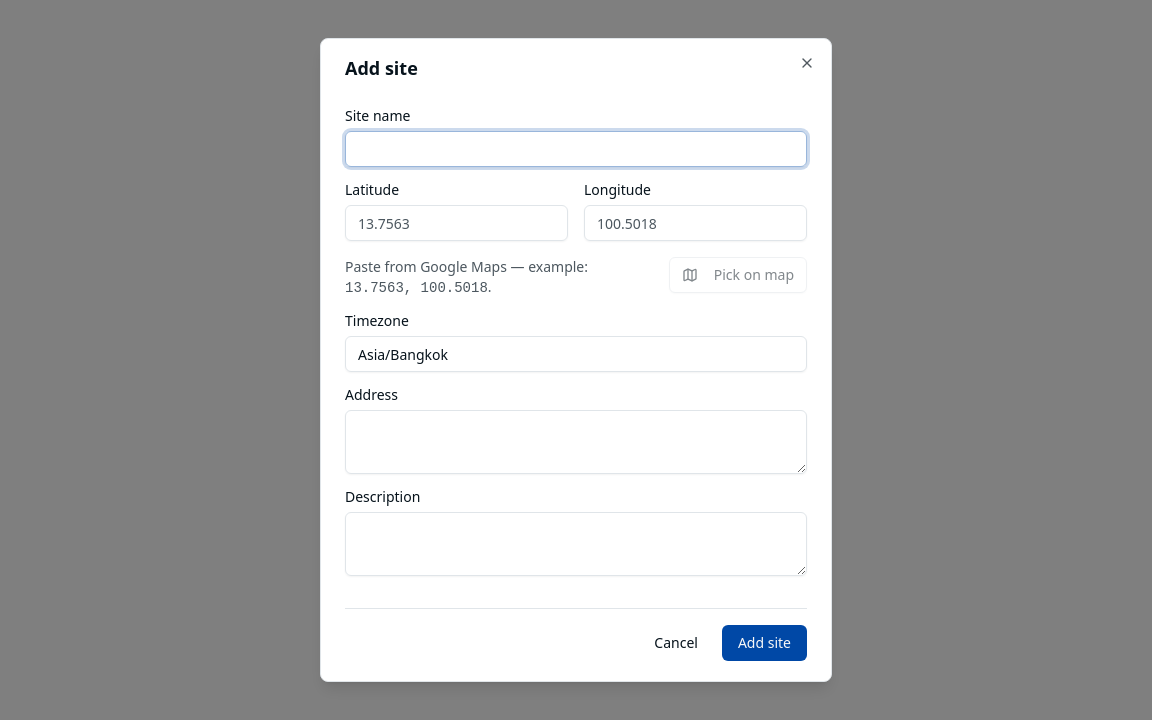
CreateSiteDialog (Plan 02-14 / D-17 + D-18) › validates lat/lng range — shows inline error and disables submit
Type "Bad" into the field labelled "Site name". click: (576,149)
box: [345,131,807,167]
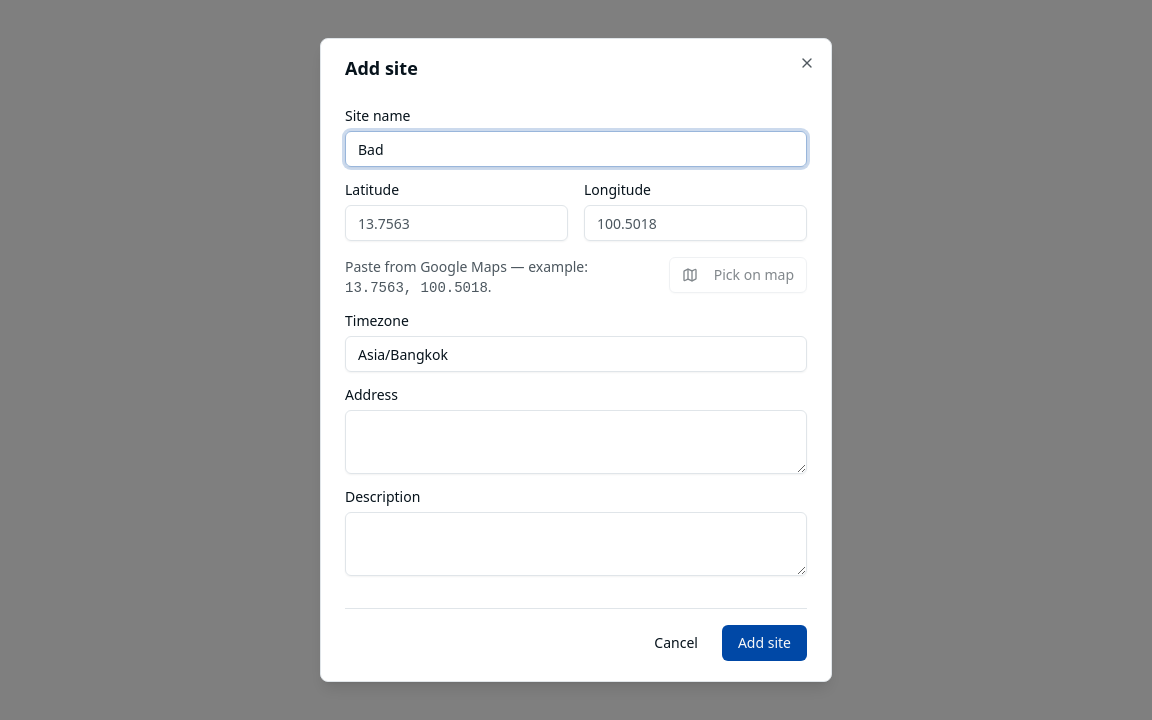
Type "99" into the field labelled "Latitude". click: (456,223)
box: [345,205,568,241]
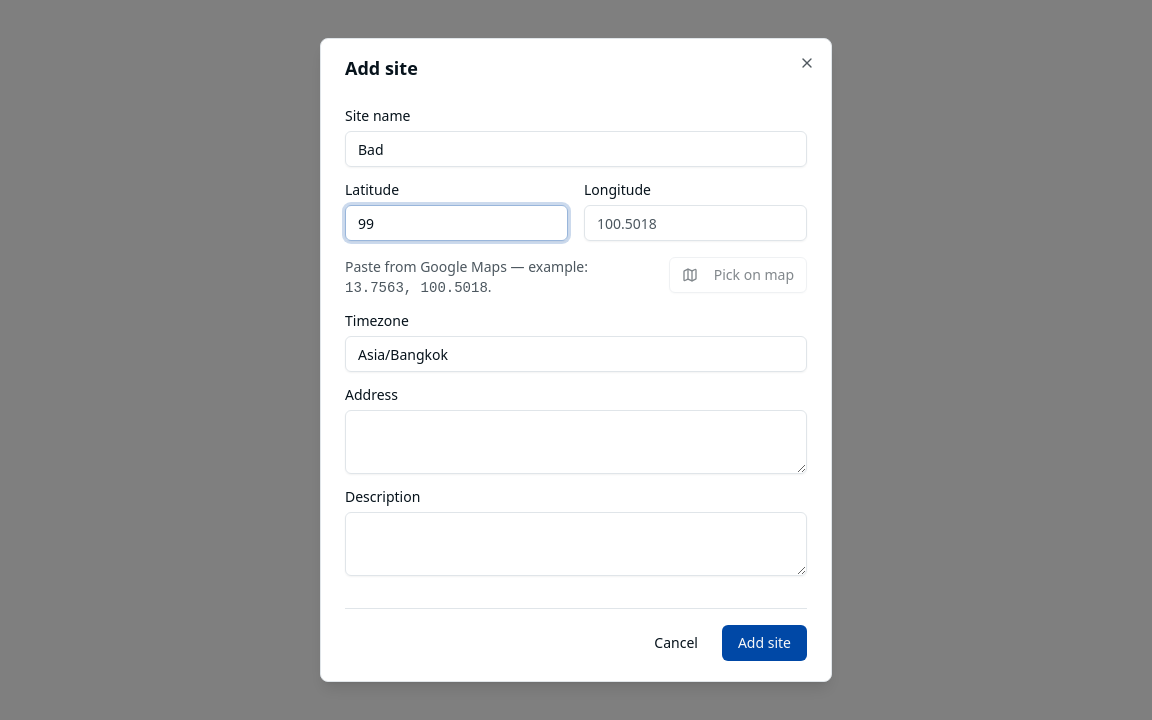
Trigger blur for validation
Press Tab
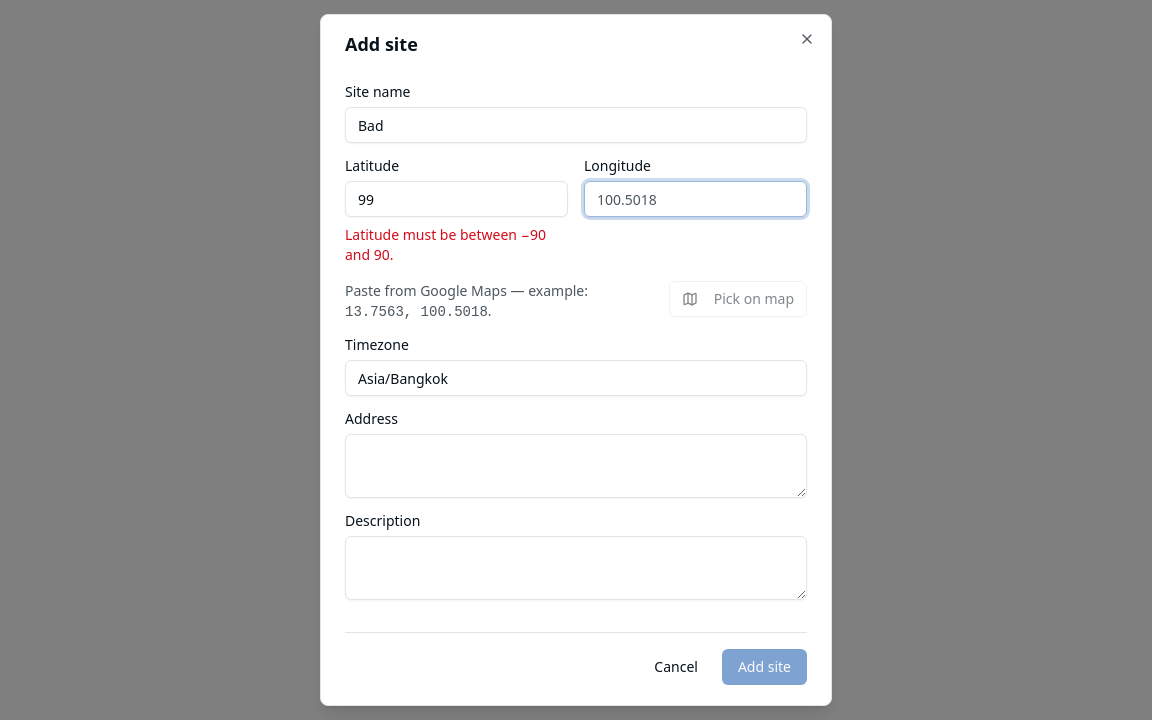
expect the text "Latitude must be between −90 and 90." is shown: met, box [345,225,568,265]
